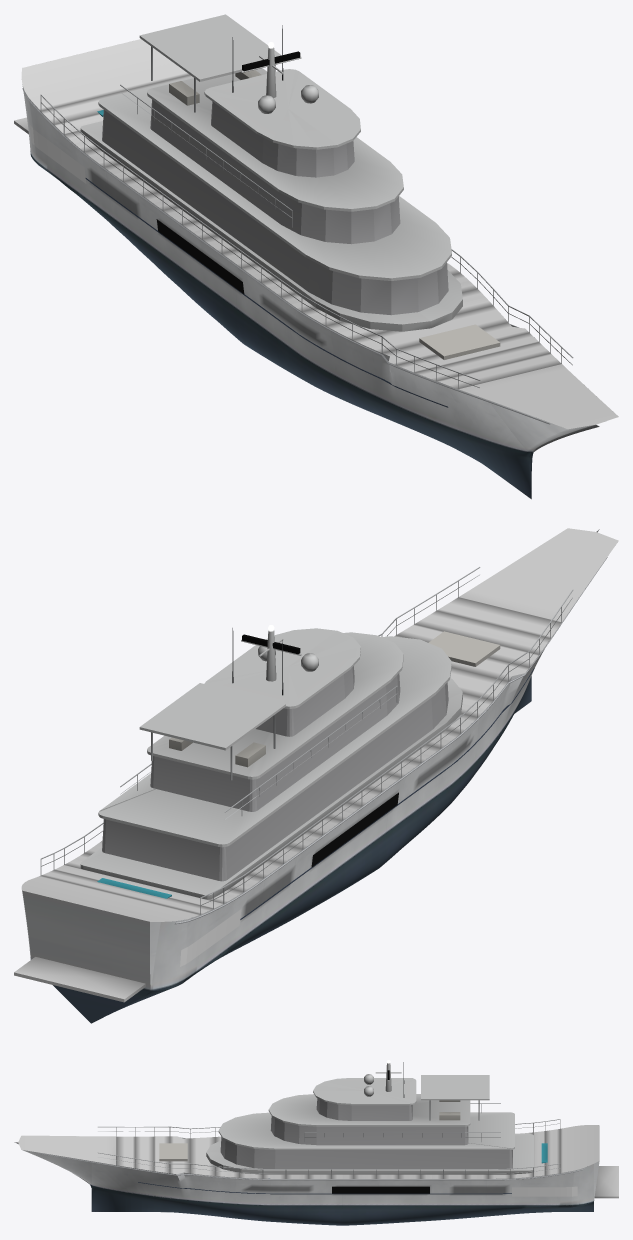
The model's file is yacht.glb.
The picture shows the model from 3 angles, top to bottom: view 1: azimuth 30°, elevation 25°; view 2: azimuth 150°, elevation 25°; view 3: azimuth 270°, elevation 25°; orthographic projection. The views are drawn at different scales.
Parts seen in each view (by area): view 1: trim, rumpf, rund, name-1; view 2: trim, rumpf, rund, holz, name-1; view 3: trim, rumpf, rund, holz, name1.
Part boxes in pixels (x1,y1,x2,y2): trim: (21, 14, 618, 429); rumpf: (22, 84, 599, 499); rund: (22, 25, 573, 424); name-1: (30, 125, 86, 183); trim: (21, 528, 618, 921); rumpf: (22, 529, 599, 1023); rund: (40, 557, 607, 924); holz: (14, 957, 145, 1002); name-1: (180, 909, 241, 966); trim: (18, 1075, 599, 1193); rumpf: (14, 1136, 599, 1225); rund: (38, 1062, 584, 1194); holz: (594, 1166, 618, 1198); name1: (512, 1186, 577, 1196).
Size of the model in its own units: 9.69 by 15.45 by 55.42.
Materials: 7 (1 with a texture image).
